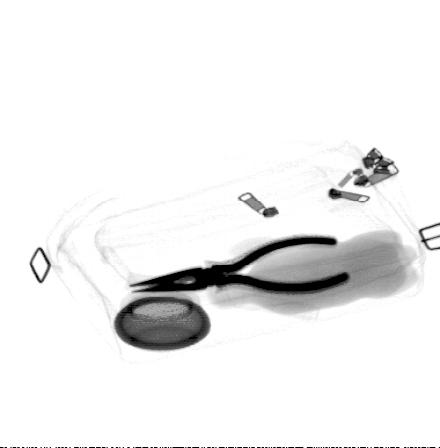Pliers: (128, 233, 351, 295)
